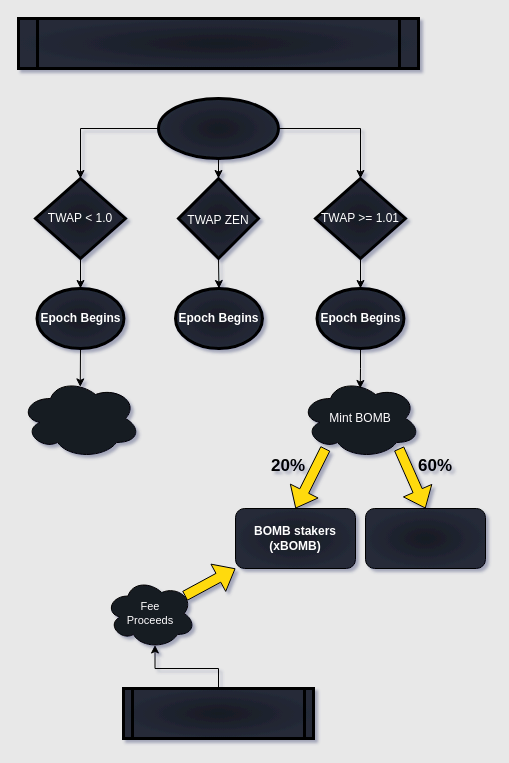
This 509x763 diagram has some shape labels left out. The shapes that lost their labels are listed below. From the top down, each one's centre as x and y in pixels, then its label:
At [218,43]: "BOMB Distribution".
At [218,128]: "Epoch Ends".
At [80,418]: "Issue BBOND".
At [425,538]: "BSHARE stakers in the Boardroom".
At [218,713]: "Autocompounder Vaults".
